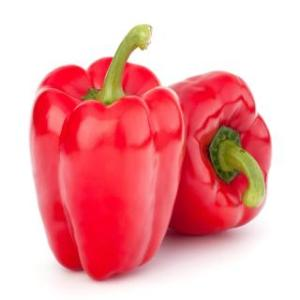bell_pepper: (29, 23, 186, 281), (176, 70, 270, 234)
